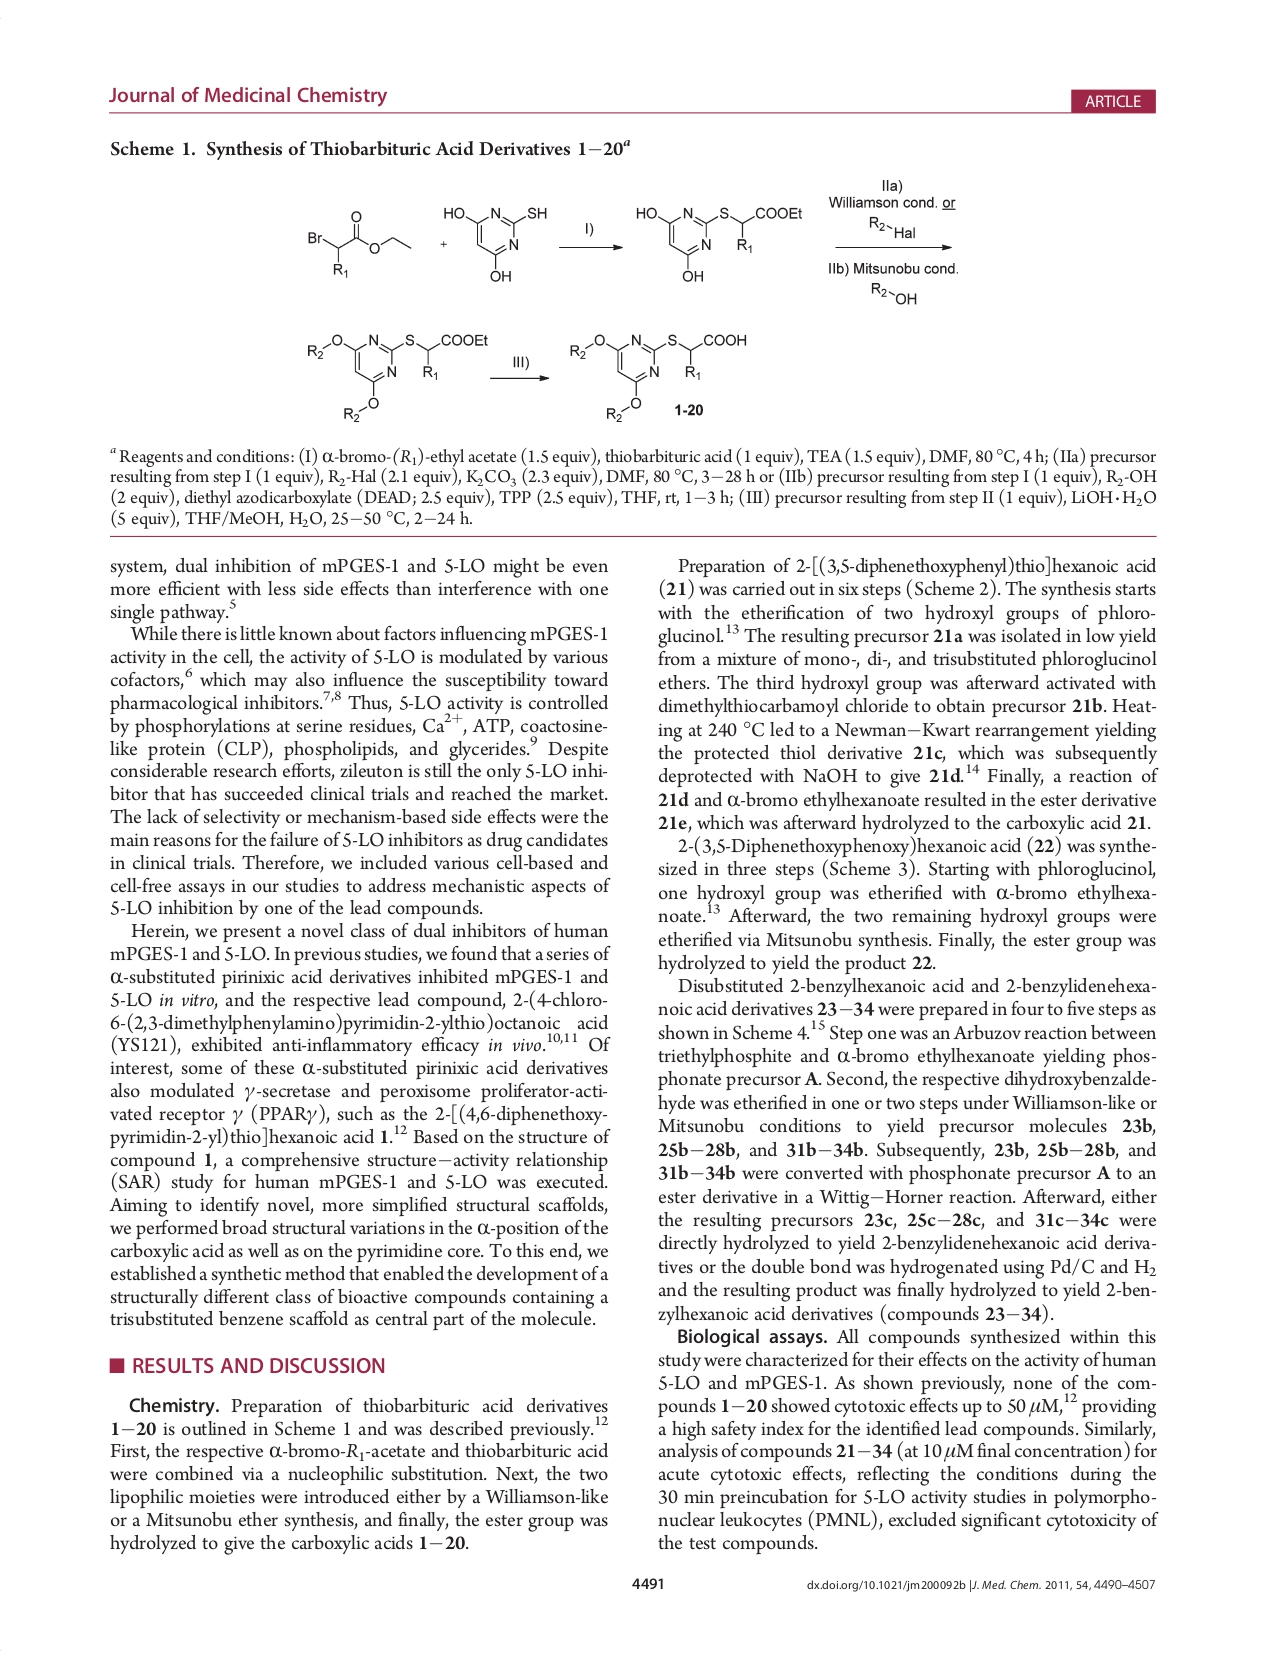exist_molecular: (303, 326, 489, 426), (567, 326, 749, 426), (633, 199, 805, 287), (442, 199, 549, 283), (302, 207, 414, 281)
